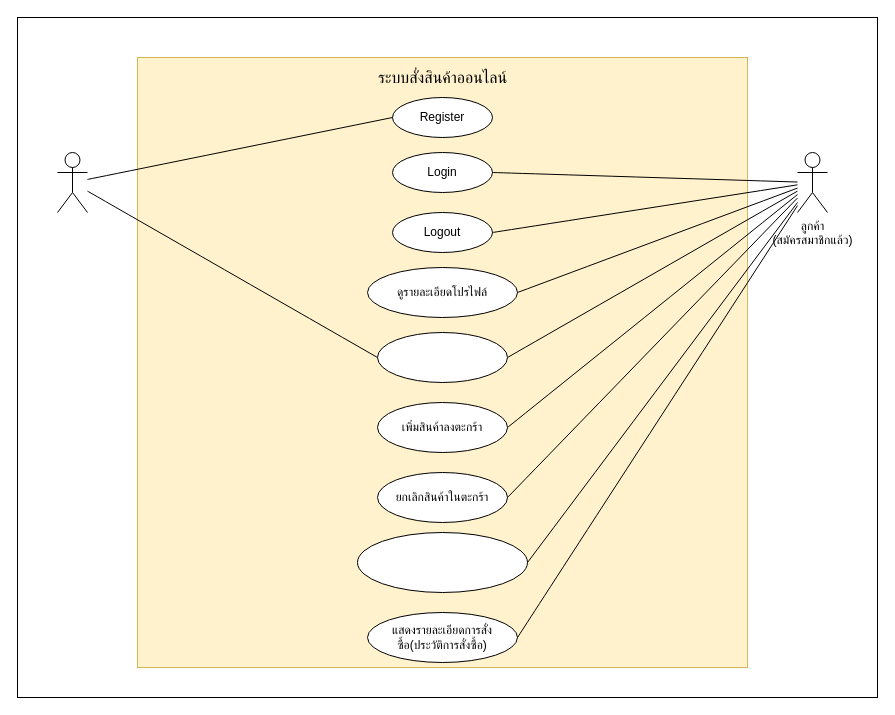
Image size: 895x715. Some labels were removed from this diagram. Each missing label, with the centre of its shape:
"ดูรายละเอียดสินค้า(รูป, ราคา, รายละเอียด, stock)" goes at pixel 442 357.
"ลูกค้า (ยังไม่สมัครสมาชิก)" goes at pixel 72 182.
"สั่งซื้อสินค้าตามรายการทั้งหมดในตะกร้าพร้อมเลือกวิธีการชำระเงิน" goes at pixel 442 562.
